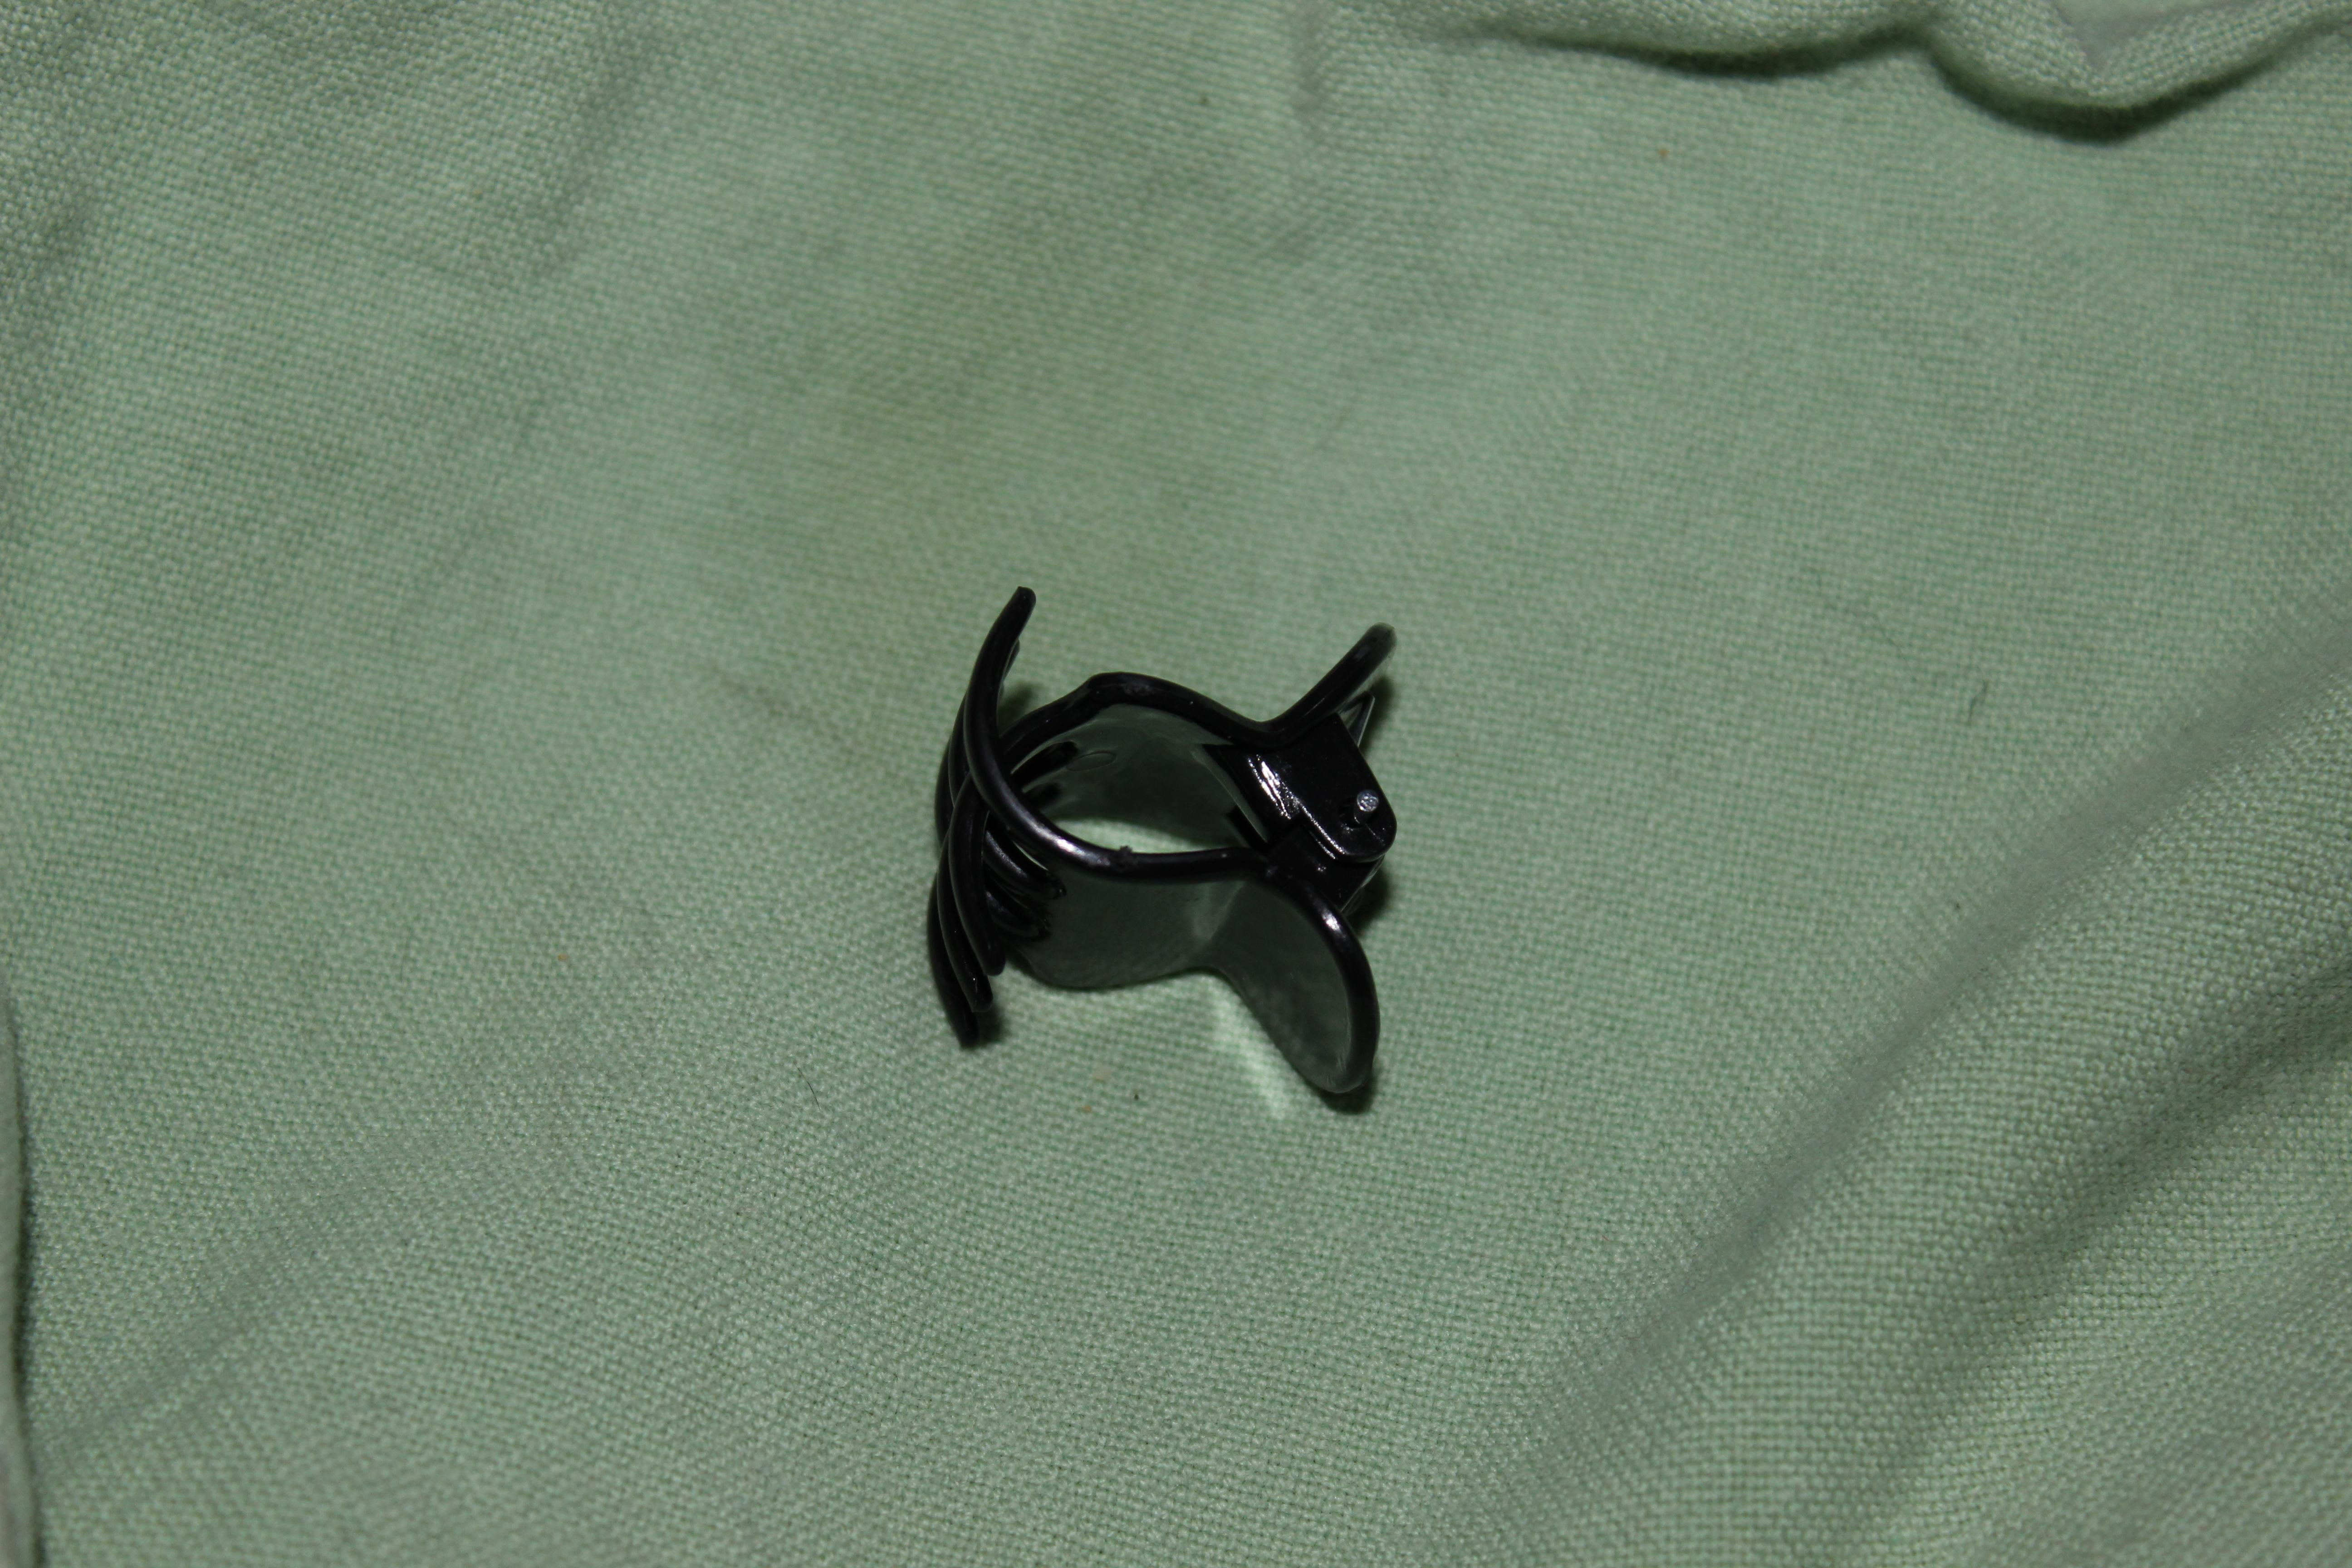hairClip: (863, 560, 1468, 1155)
